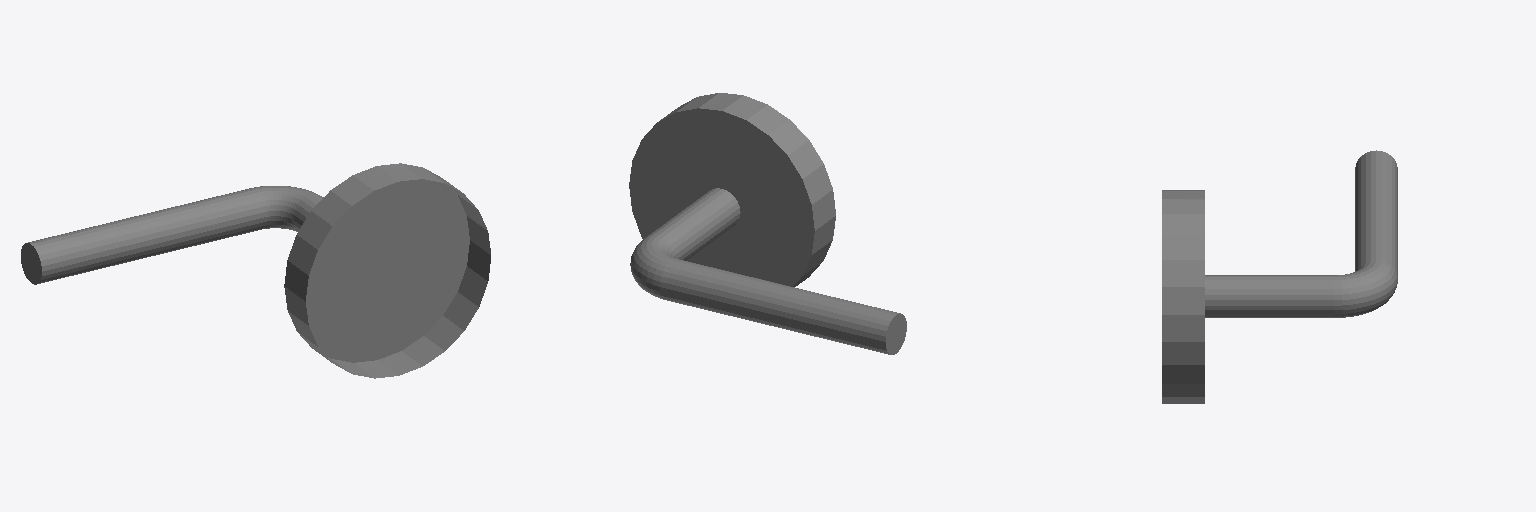
File: Türgriff.obj
3 views of the same model, side by side, from view 1: azimuth 30°, elevation 25°; view 2: azimuth 150°, elevation 25°; view 3: azimuth 270°, elevation 25° (orthographic).
Parts seen in each view (by area): view 1: Mesh1 Model; view 2: Mesh1 Model; view 3: Mesh1 Model.
Boxes of the visible parts, x1,y1,x2,y2 form: Mesh1 Model: [21, 163, 490, 378]; Mesh1 Model: [629, 93, 906, 354]; Mesh1 Model: [1162, 150, 1397, 403].
Bounding box in the file's own units: 0.19 × 0.1 × 0.11.